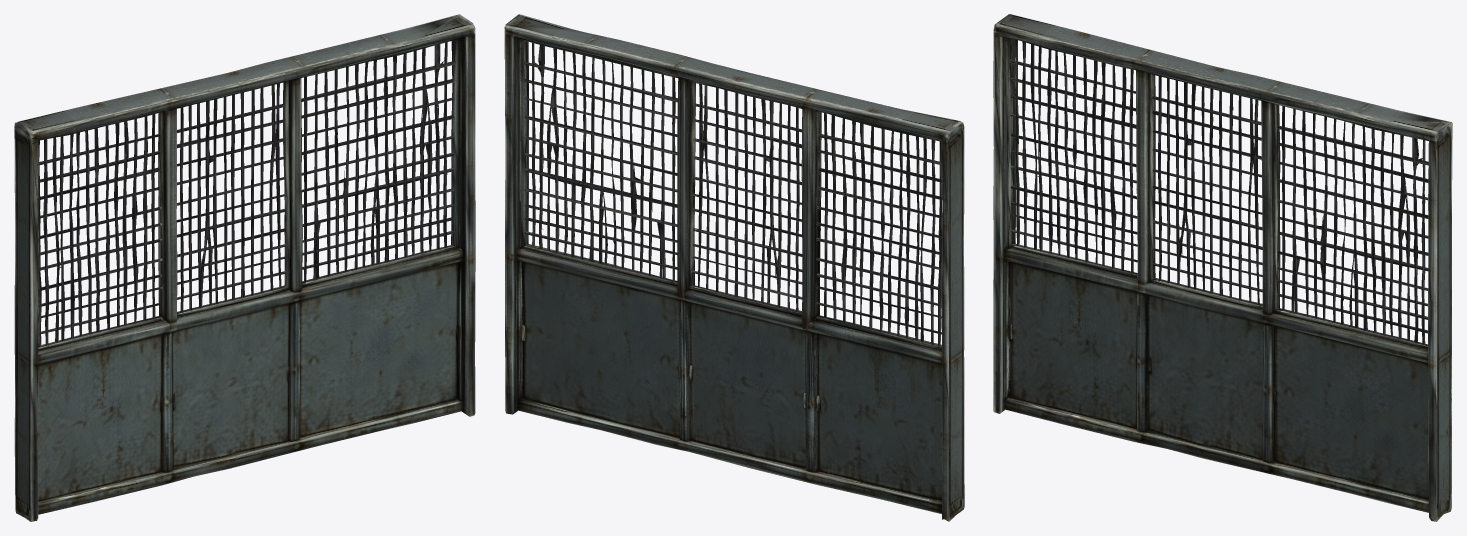
Rendered from mesh_metal_grid.fbx.
3 renders of one model, left to right at view 1: azimuth 30°, elevation 25°; view 2: azimuth 150°, elevation 25°; view 3: azimuth 330°, elevation 25°, orthographic.
Visible parts, largest first — view 1: mesh_metal_grid; view 2: mesh_metal_grid; view 3: mesh_metal_grid.
Boxes of the visible parts, x1=… form: mesh_metal_grid: x1=14, y1=14, x2=475, y2=521; mesh_metal_grid: x1=504, y1=14, x2=964, y2=521; mesh_metal_grid: x1=993, y1=14, x2=1452, y2=521.
Size of the model in its own units: 822 by 692 by 55.41.
Materials: 1 (1 with a texture image).
